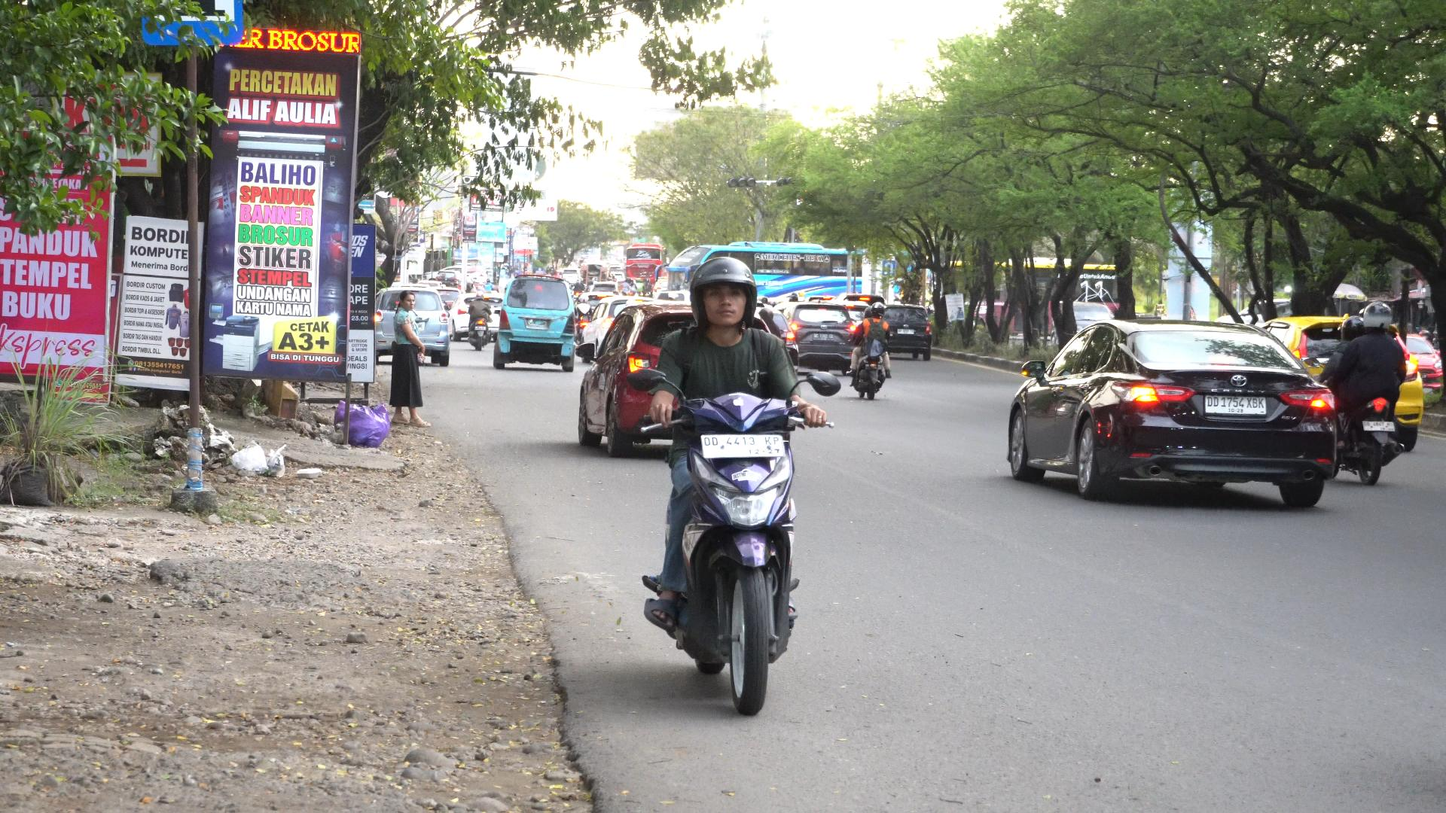number-plate: (695, 425, 792, 466)
